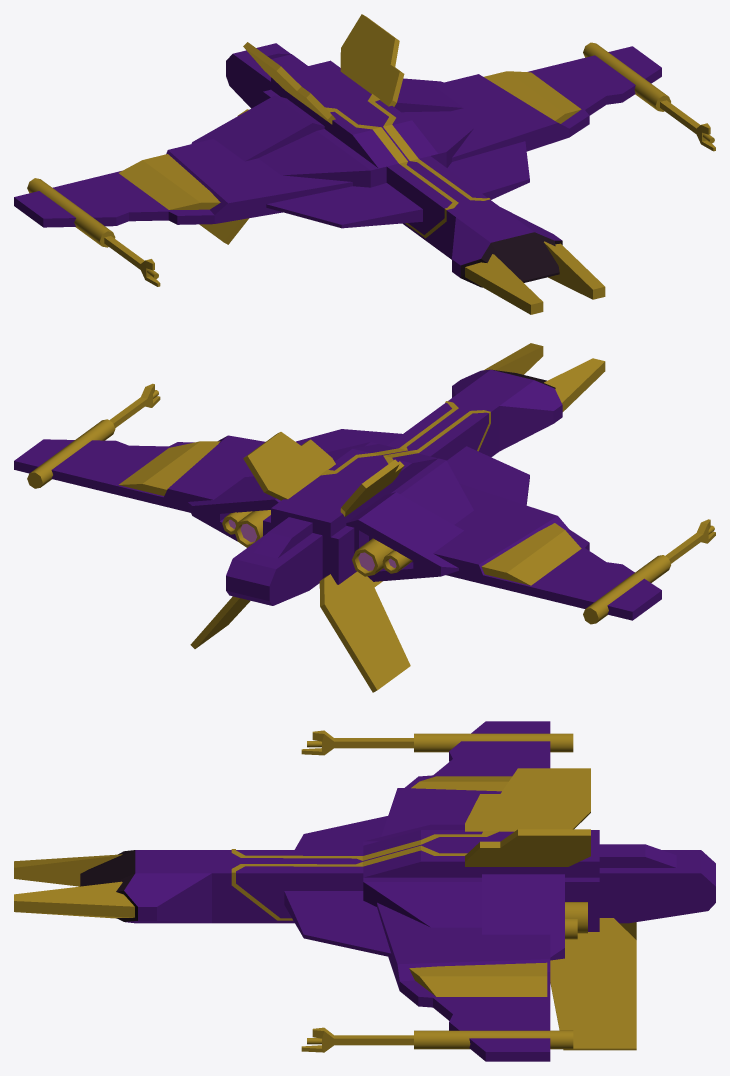
The model's file is ship1.glb.
3 views of the same model, one above another, from view 1: azimuth 30°, elevation 25°; view 2: azimuth 150°, elevation 25°; view 3: azimuth 270°, elevation 25° (orthographic). The views are drawn at different scales.
Visible parts, largest first — view 1: PC_Spaceship.001; view 2: PC_Spaceship.001; view 3: PC_Spaceship.001.
Boxes of the visible parts, x1,y1,x2,y2 form: PC_Spaceship.001: [14, 14, 715, 314]; PC_Spaceship.001: [14, 343, 715, 692]; PC_Spaceship.001: [14, 721, 715, 1061].
Bounding box in the file's own units: 4.69 × 1.35 × 4.21.
